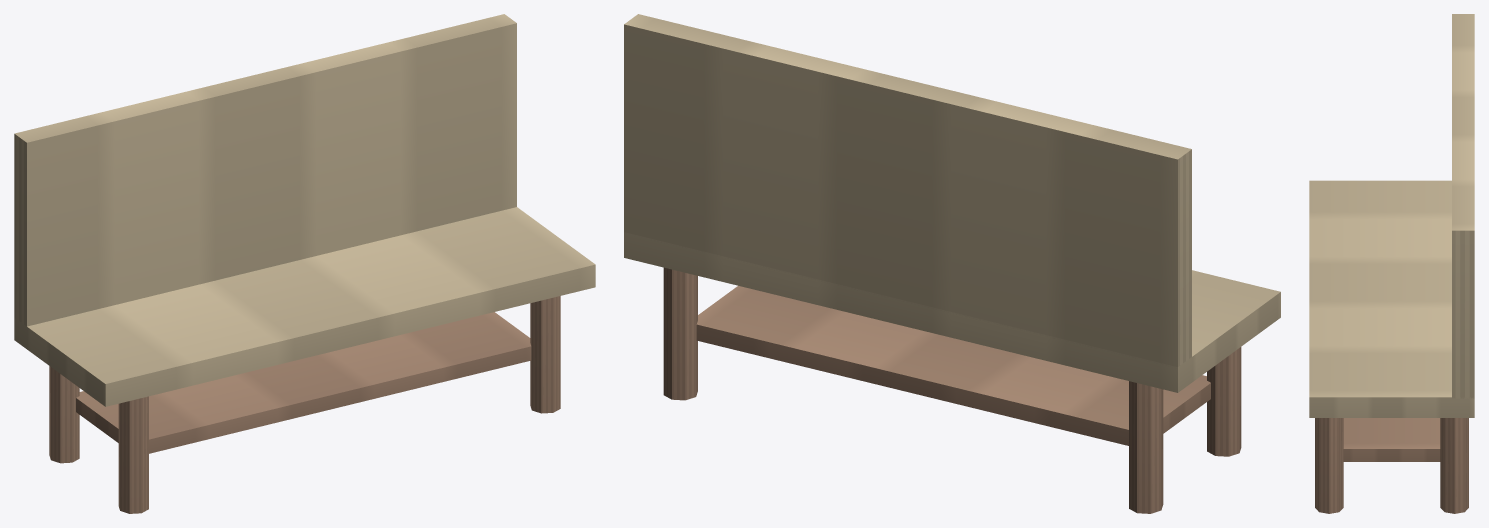
File: bamboo_bench.glb
3 renders of one model, left to right at view 1: azimuth 30°, elevation 25°; view 2: azimuth 150°, elevation 25°; view 3: azimuth 270°, elevation 25°, orthographic. The views are drawn at different scales.
Parts seen in each view (by area): view 1: bamboo_bench; view 2: bamboo_bench; view 3: bamboo_bench.
Part boxes in pixels (<box>): bamboo_bench: <box>14,14,595,513</box>; bamboo_bench: <box>624,14,1280,513</box>; bamboo_bench: <box>1309,14,1474,513</box>.
Bounding box in the file's own units: 1.8 × 1.14 × 0.58.
1 material, 1 textured.
